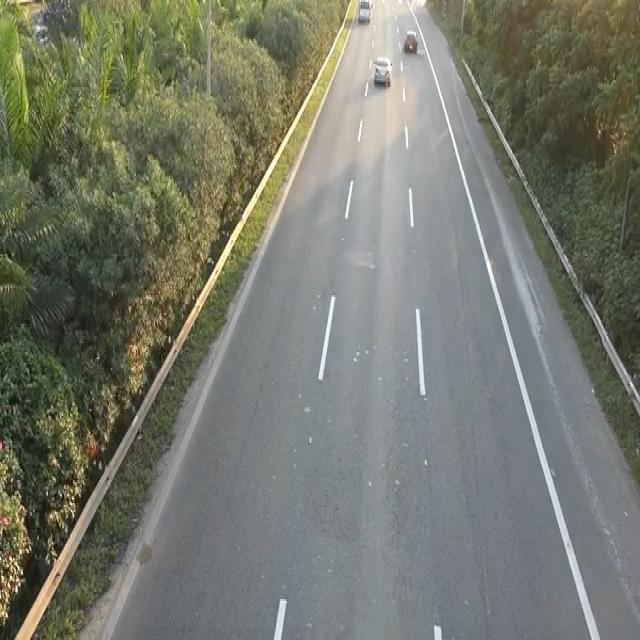bus: (369, 52, 396, 94), (403, 27, 418, 53)
jeep: (356, 0, 372, 23)
